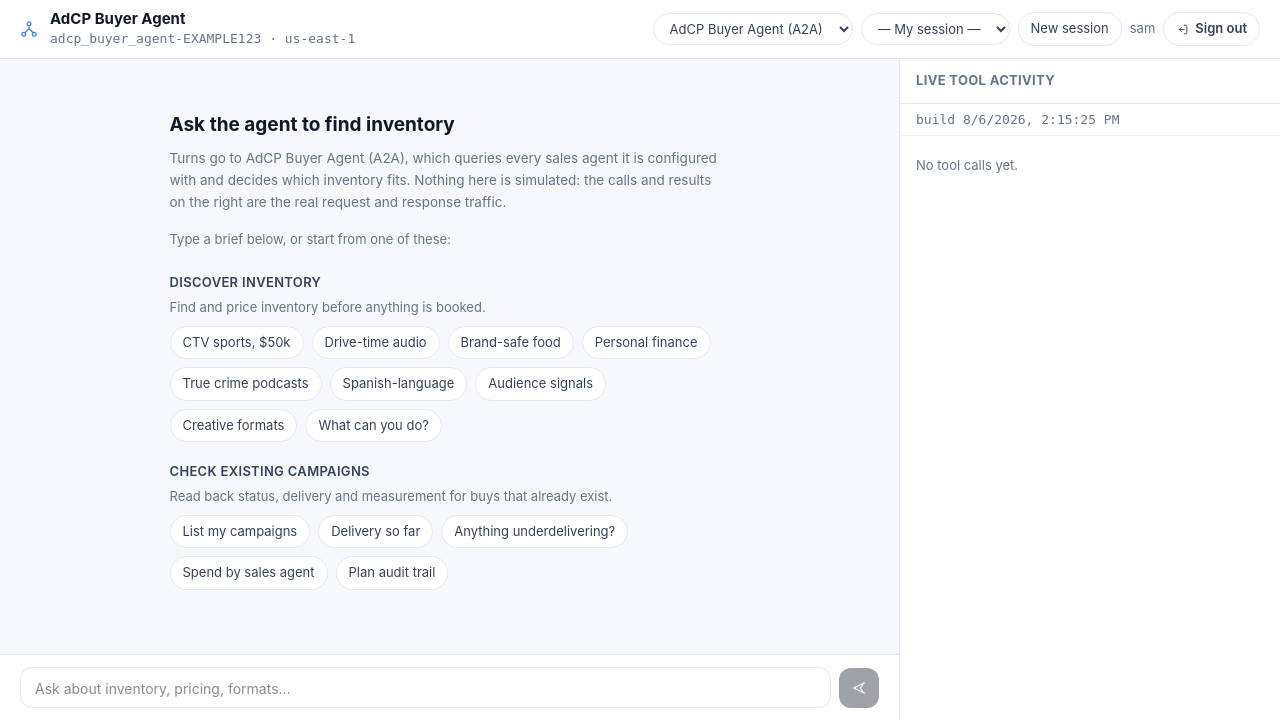
Test: chat empty state: example briefs and New session › hides the briefs once the transcript has a turn in it
This screenshot has width=1280, height=720.
Check: the element with test id "test-briefs" is shown, box [170,273,730,590]
Click the button "CTV sports, $50k": x=236, y=342 [170,326,304,359]
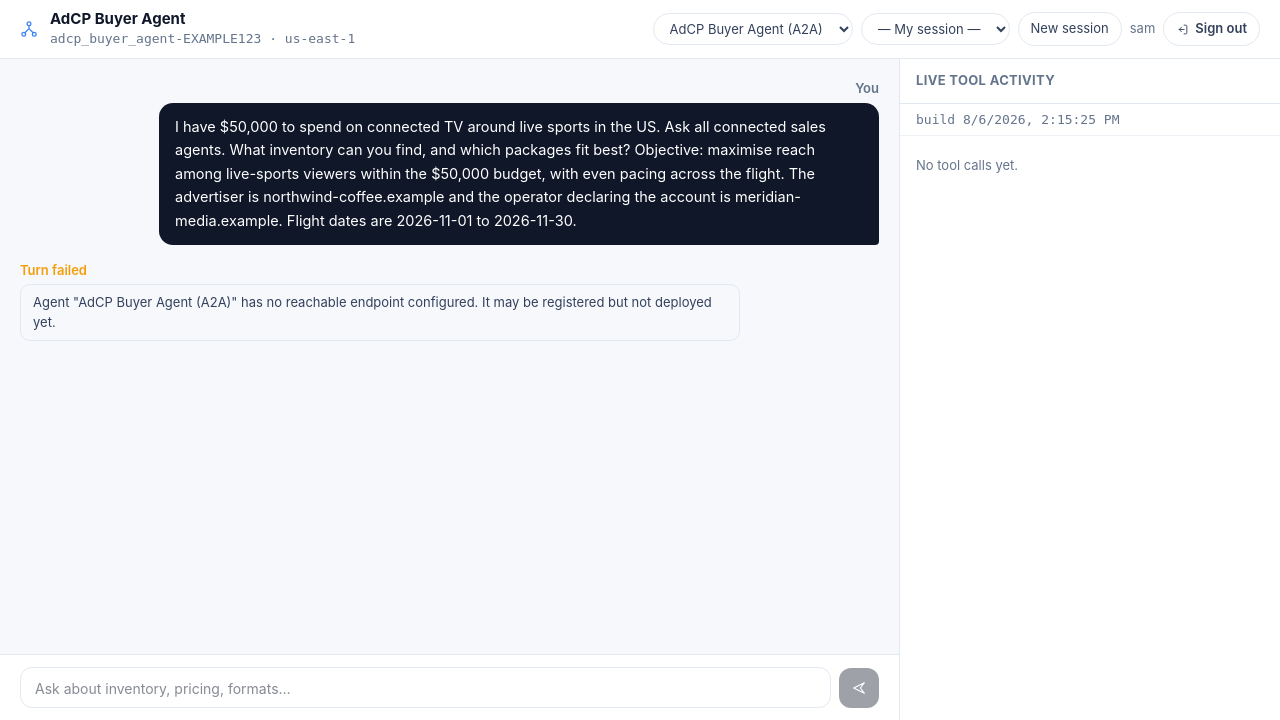
Check: the element with test id "test-briefs" is gone
